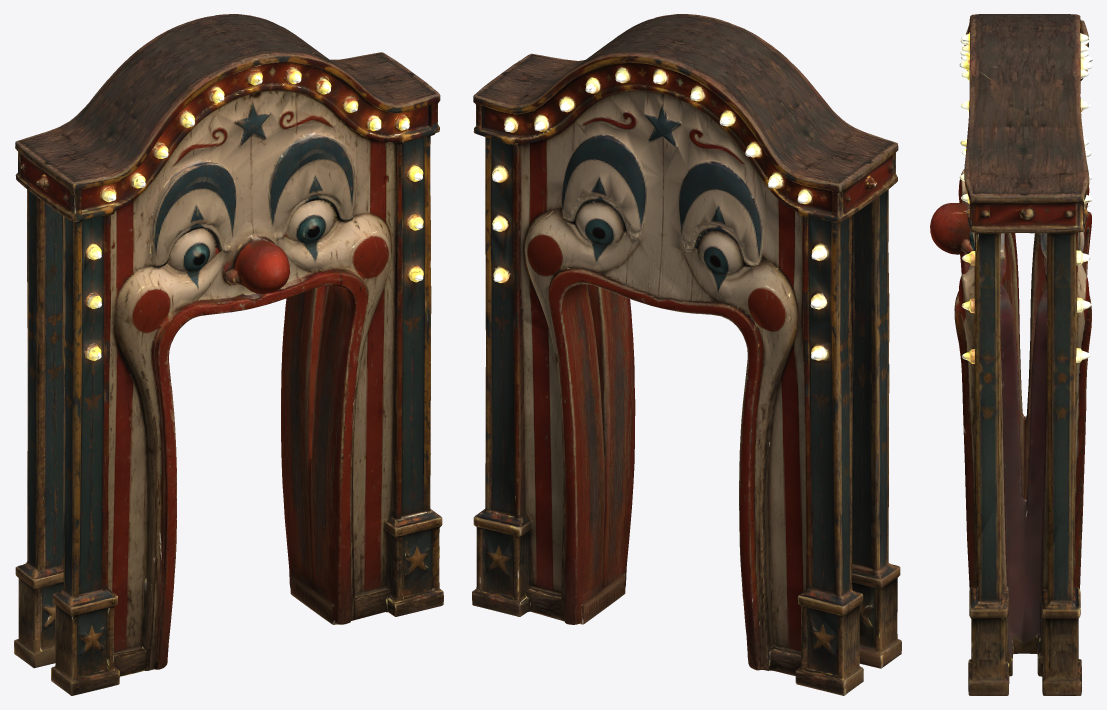
Rendered from Meshy_AI_Grinning_Clown_Arch_0509173903_texture.fbx.
The picture shows the model from 3 angles, left to right: view 1: azimuth 30°, elevation 25°; view 2: azimuth 150°, elevation 25°; view 3: azimuth 270°, elevation 25°; orthographic projection. The views are drawn at different scales.
Visible parts, largest first — view 1: Mesh_0; view 2: Mesh_0; view 3: Mesh_0.
Part boxes in pixels (x1,y1,x2,y2): Mesh_0: (14,14,443,695); Mesh_0: (472,14,901,695); Mesh_0: (930,14,1092,695).
Size of the model in its own units: 129 by 191 by 48.66.
1 material, 1 textured.
